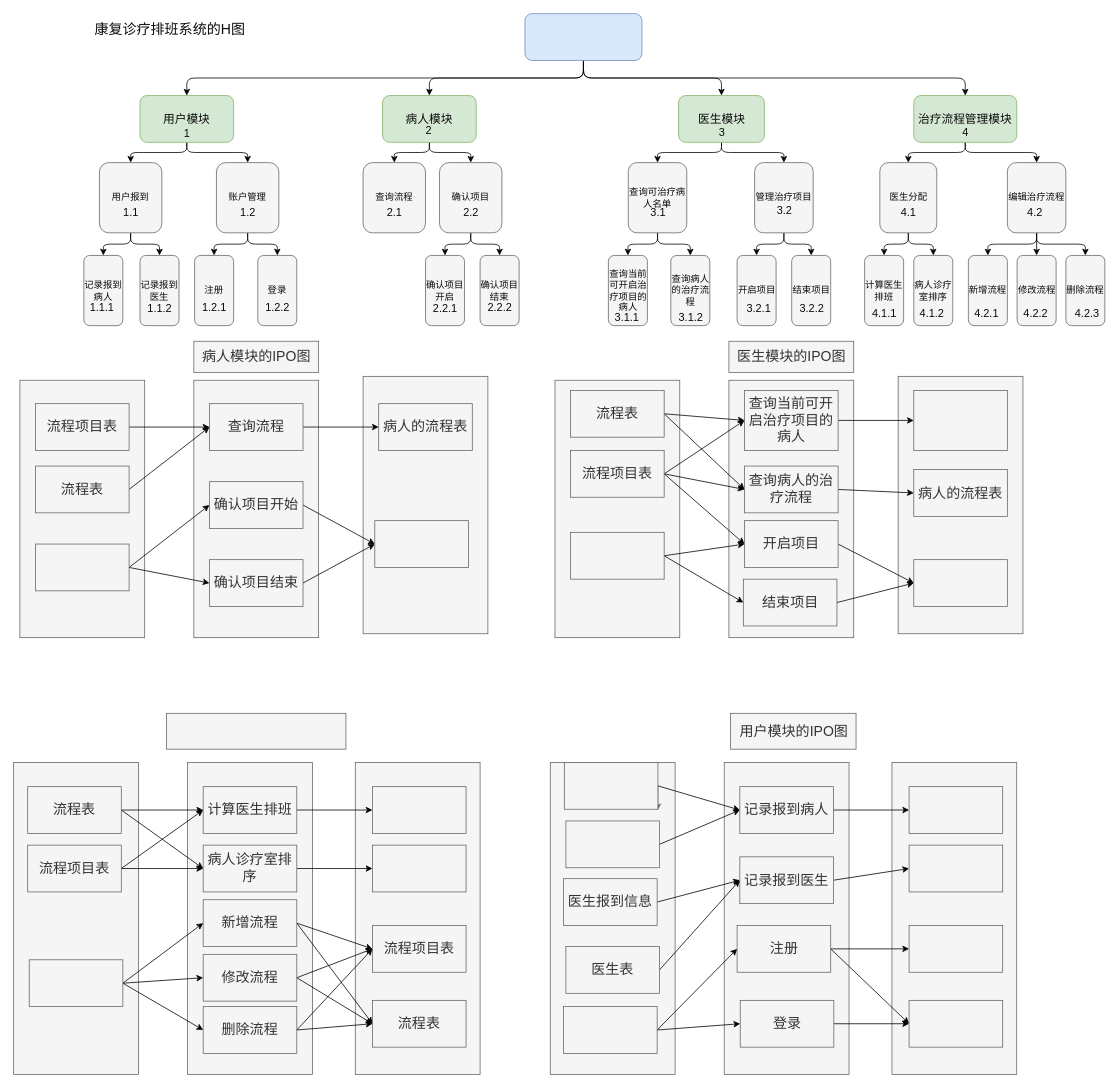
Image size: 1119x1088. Some labels were removed from this diagram. Each missing label, with the centre of its shape:
"医生排班表" belongs at [419,809].
"医生的开启请求" belongs at [617,555].
"医生的编辑请求" belongs at [75,983].
"医疗排班系统" belongs at [583,36].
"当前可开启治疗项目的病人表" belongs at [960,420].
"报到医生表" belongs at [955,809].
"报到病人表" belongs at [955,868].
"治疗流程管理模块的IPO图" belongs at [256,731].
"用户信息" belongs at [610,1029].
"病人\医生表" belongs at [955,948].
"病人报到信息" belongs at [611,785].
"病人排序表" belongs at [419,868].
"病人的确认请求" belongs at [82,567].
"病人表" belongs at [612,844].
"登录\注册状态" belongs at [955,1023].
"项目状态" belongs at [960,582].
"项目的确认状态" belongs at [421,543].
